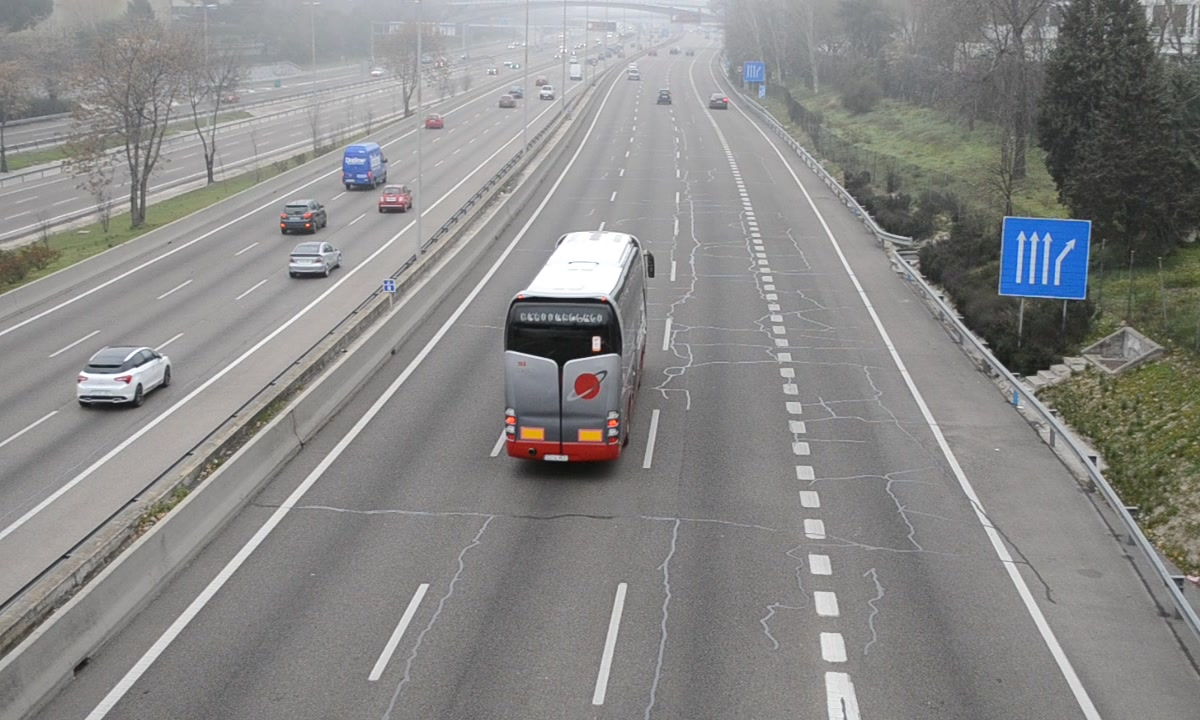bus: (500, 230, 644, 465)
car: (708, 92, 729, 111)
